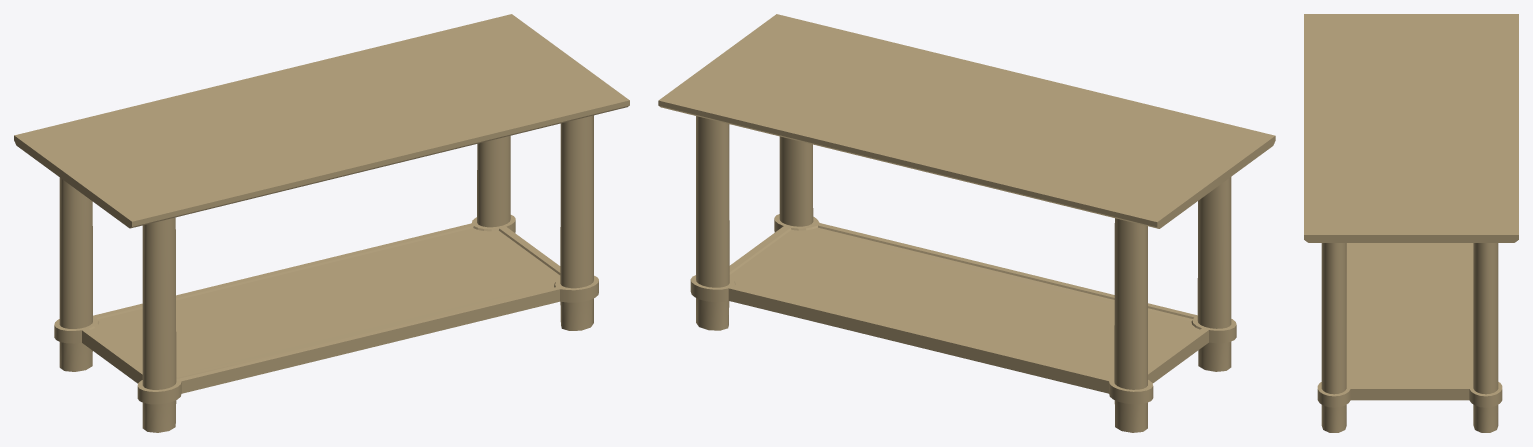
File: mesa pequeña.fbx
3 renders of one model, left to right at view 1: azimuth 30°, elevation 25°; view 2: azimuth 150°, elevation 25°; view 3: azimuth 270°, elevation 25°, orthographic. The views are drawn at different scales.
Visible parts, largest first — view 1: Box001; view 2: Box001; view 3: Box001.
Boxes of the visible parts, bbox=[...] form: Box001: bbox=[14, 14, 629, 432]; Box001: bbox=[658, 14, 1275, 432]; Box001: bbox=[1304, 14, 1518, 432].
Bounding box in the file's own units: 5441 × 2381 × 2234.
